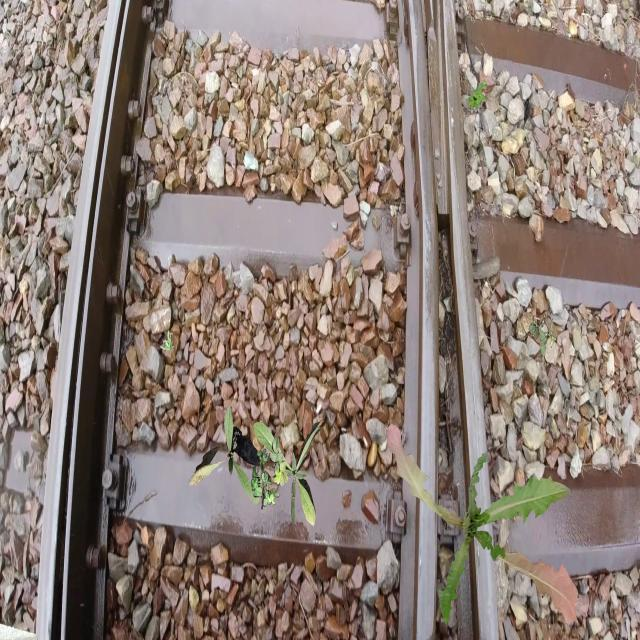Plant: (386, 423, 578, 626), (253, 420, 324, 528), (188, 405, 260, 504), (251, 436, 288, 509), (529, 316, 556, 357), (468, 79, 488, 112), (161, 330, 175, 350)
